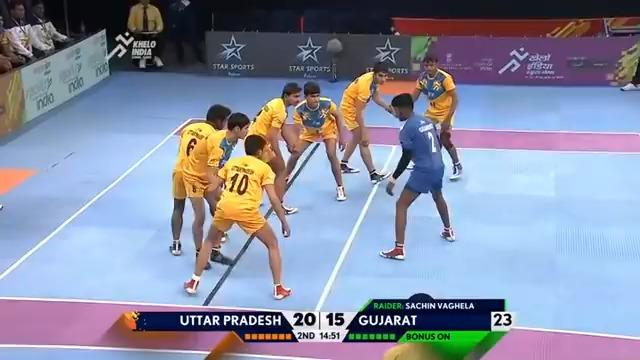Player: (183, 133, 292, 299), (378, 92, 455, 260), (169, 103, 234, 267), (283, 81, 347, 201), (244, 82, 301, 215), (202, 111, 250, 266), (338, 62, 394, 184), (409, 54, 463, 179)
referee: (126, 0, 164, 69), (167, 0, 205, 66)
